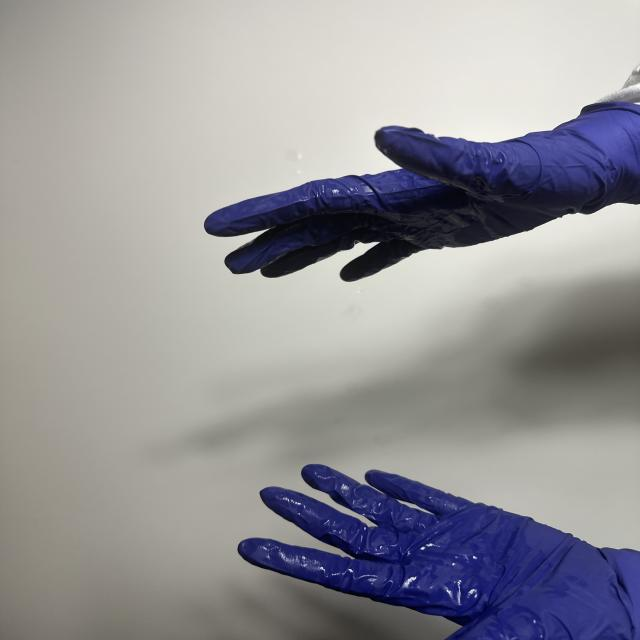gloves_contaminated: (205, 96, 640, 281), (238, 464, 640, 640)
